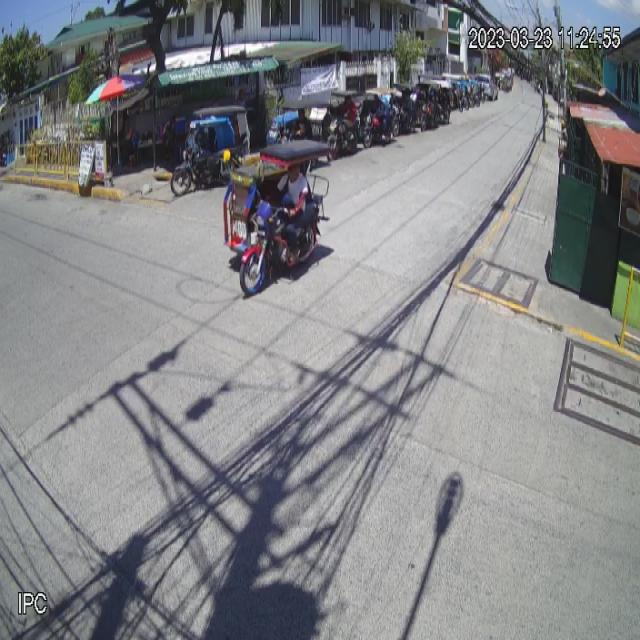Tricycle: (223, 139, 329, 299)
